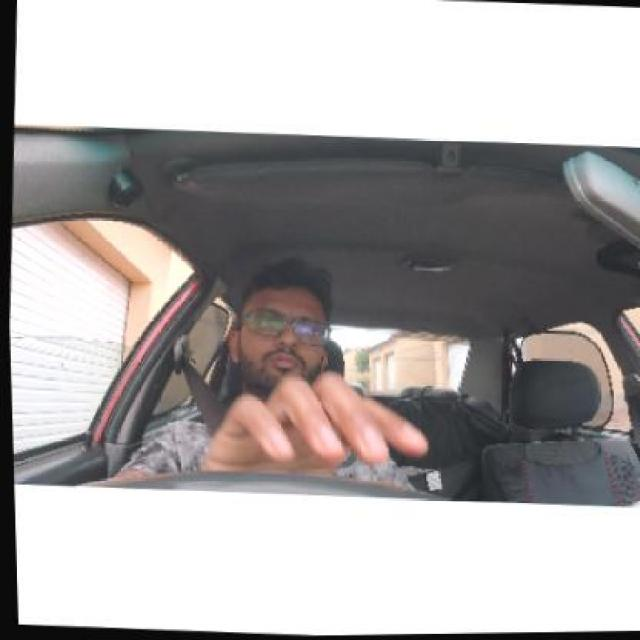person: (232, 263, 348, 402)
